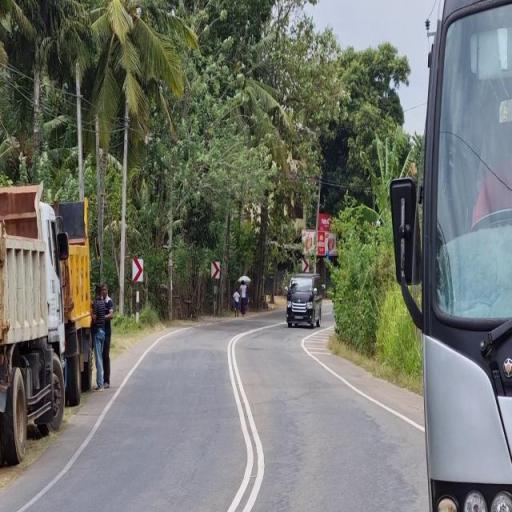double_white_line: (224, 328, 263, 511)
